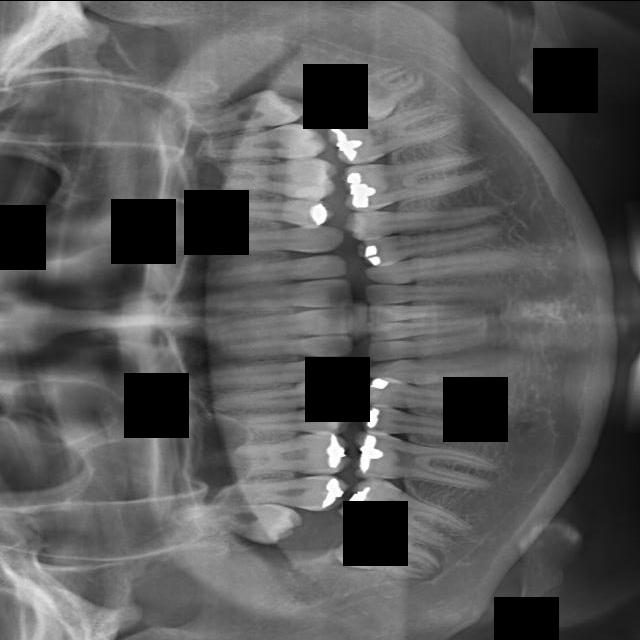3M ESPE Implant: (168, 499, 302, 546)
AGS Medikal Implant: (189, 251, 347, 290)
AMerOss Implant: (165, 225, 343, 258)
Anthogyr Implant: (200, 193, 333, 227)
Bicon Implant: (217, 157, 336, 200)
BioHorizons Implant: (209, 146, 228, 148)
BioLife Implant: (175, 84, 308, 138)
Biomet 3i Implant: (407, 69, 408, 69)
Blue Sky Bio Implant: (325, 98, 469, 169)
Camlog Implant: (341, 153, 486, 212)
Caries: (204, 475, 348, 511)
Composite filling: (342, 190, 503, 241)
Cowellmedi Implant: (355, 213, 505, 267)
Crown: (364, 242, 524, 288)
DENTSPLY Implant: (364, 280, 476, 304)
Dentatus Implant: (368, 302, 474, 322)
Dentis Implant: (368, 310, 484, 341)
Dentium Implant: (366, 326, 506, 363)
Euroteknika Implant: (367, 359, 493, 384)
Filling: (356, 376, 496, 424)
Frontier Implant: (360, 406, 483, 442)
Hiossen Implant: (236, 434, 347, 473)
Implant: (337, 470, 480, 556)
Implant Direct: (349, 430, 498, 495)
Keystone Dental Implant: (333, 520, 448, 583)
MIS Implant: (238, 409, 352, 433)
Mandible: (208, 380, 352, 409)
Maxilla: (193, 356, 351, 385)
Megagen Implant: (212, 334, 353, 365)
Neodent Implant: (204, 307, 354, 341)
Neoss Implant: (194, 278, 352, 310)
